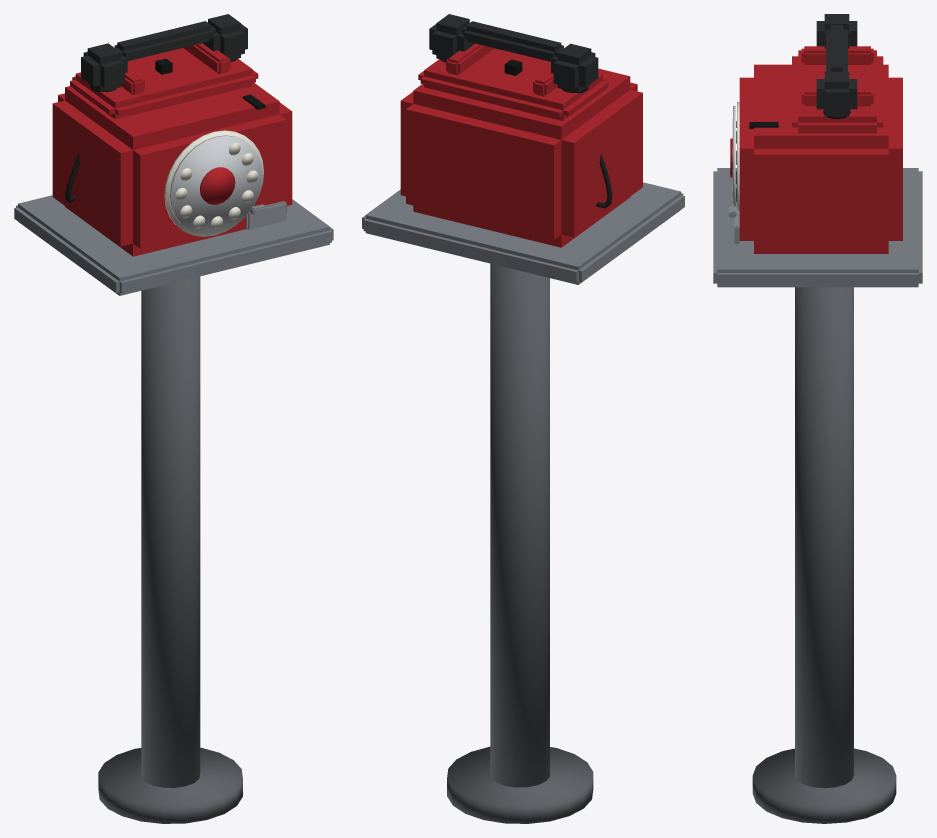
File: payphone_red.glb
3 views of the same model, side by side, from view 1: azimuth 30°, elevation 25°; view 2: azimuth 150°, elevation 25°; view 3: azimuth 270°, elevation 25° (orthographic). The views are drawn at different scales.
Visible parts, largest first — view 1: body, dial, handset, coin_return; view 2: body, handset; view 3: body, handset, dial.
Part boxes in pixels (box(x1,y1,x2,y2)): body: box(14, 43, 333, 823); dial: box(170, 135, 262, 234); handset: box(81, 14, 247, 92); coin_return: box(246, 201, 286, 229); body: box(362, 43, 684, 823); handset: box(429, 14, 598, 93); body: box(713, 46, 922, 823); handset: box(816, 14, 857, 118); dial: box(730, 106, 735, 206).
Size of the model in its own units: 0.38 by 1.26 by 0.32.
